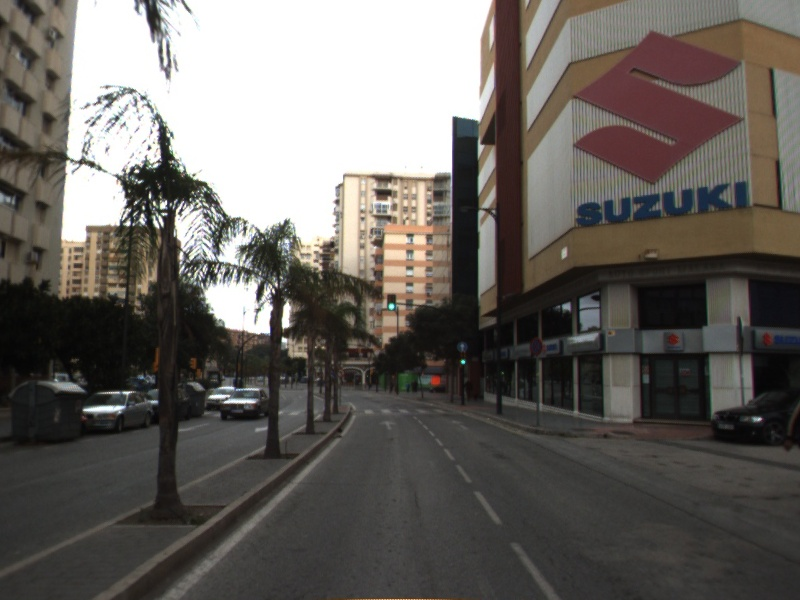STRAIGHT: (448, 417, 472, 432), (377, 418, 400, 432)
